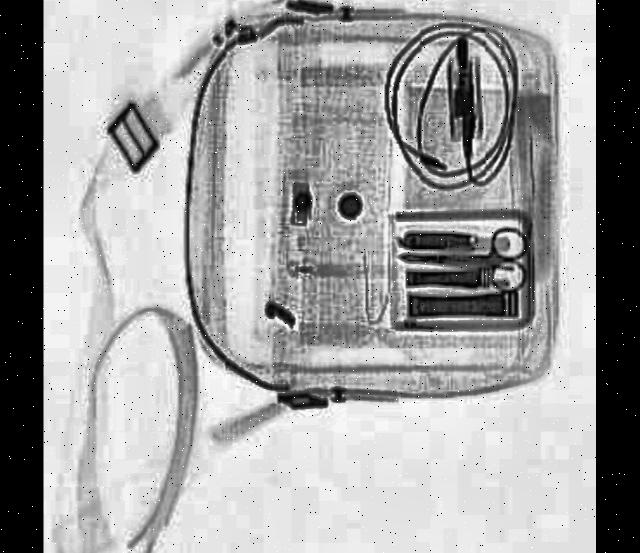Scissors: (398, 224, 528, 296)
